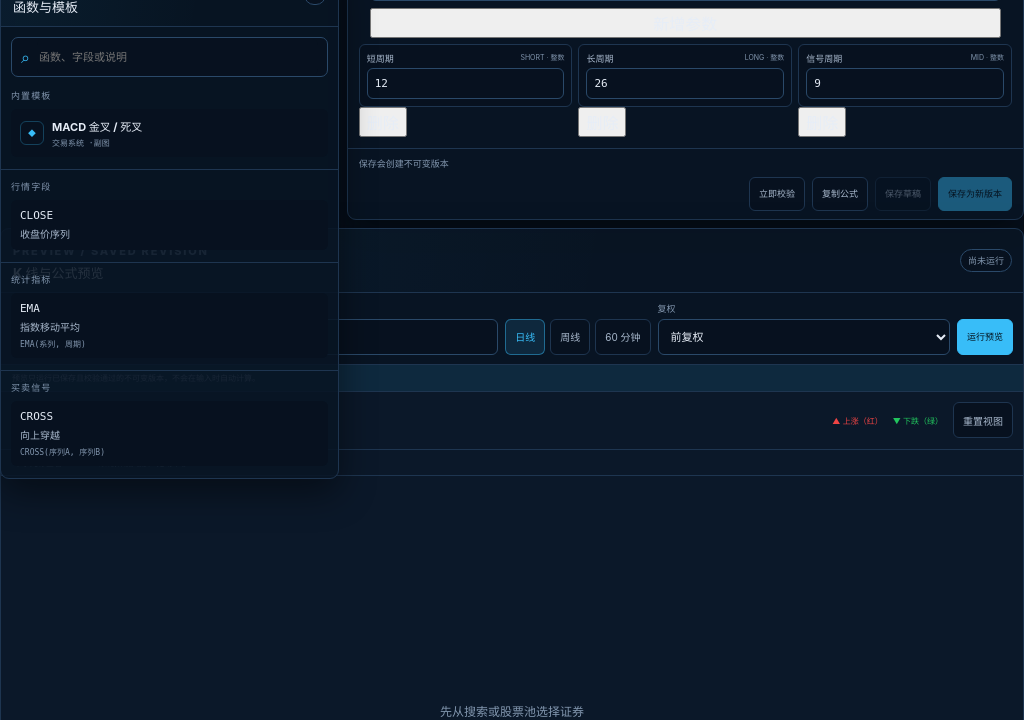
Scenario: never renders a raw HTTP status for an unmapped formula failure
(page scrolled)
Click the button "运行预览" at (985, 337), box x1=957 y1=319 x2=1013 y2=355
(page scrolled)
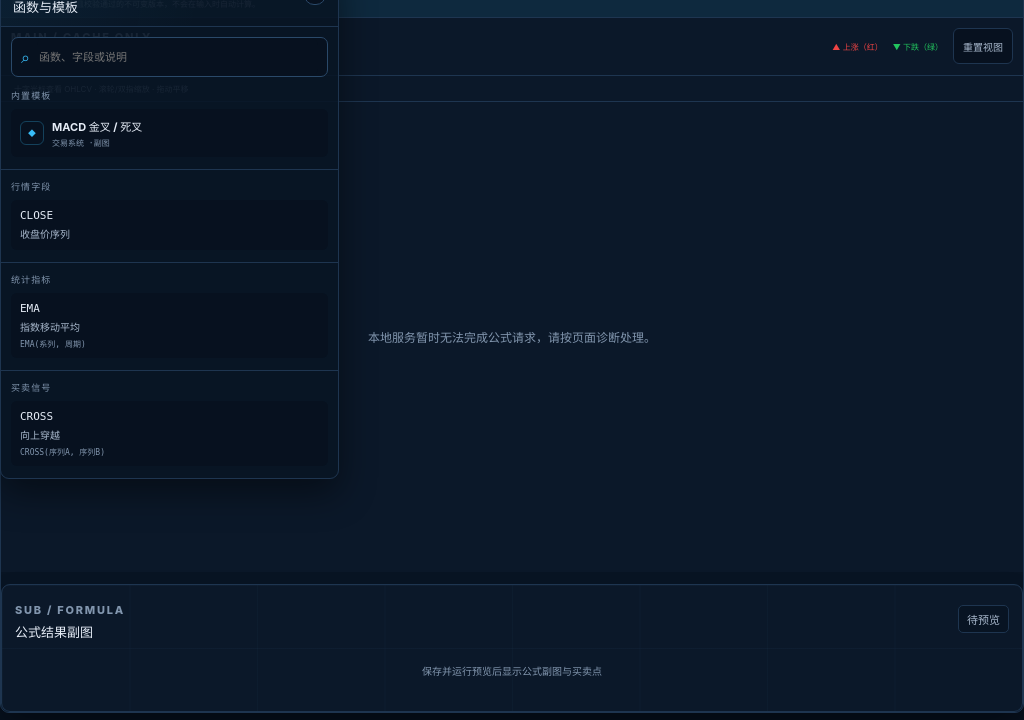
Expected: the message shows "本地服务暂时无法完成公式请求", x1=368 y1=330 x2=656 y2=345
